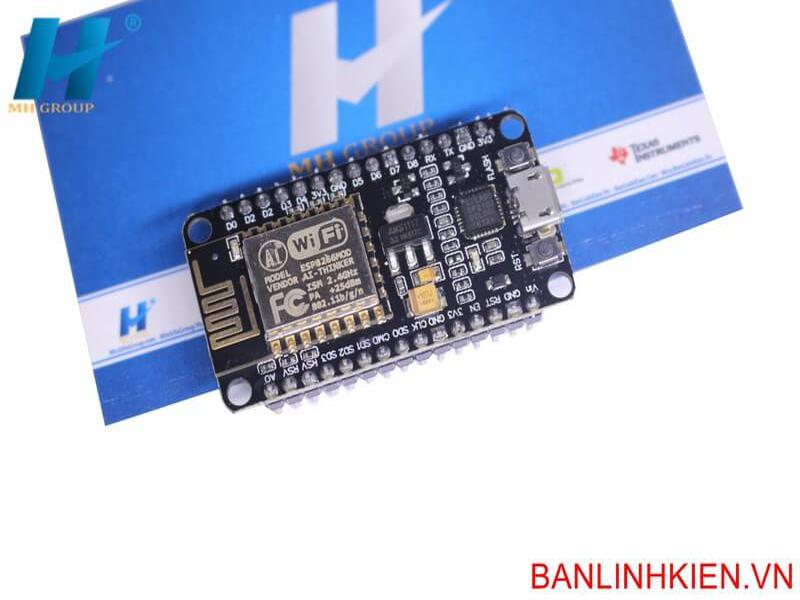ESP8266: (177, 104, 579, 426)
